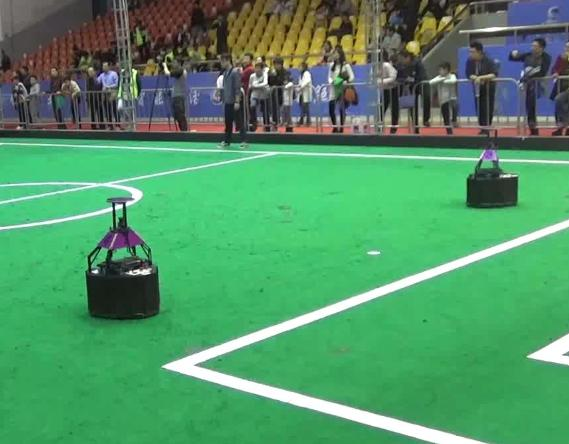robot: (81, 196, 166, 321), (463, 122, 521, 210)
